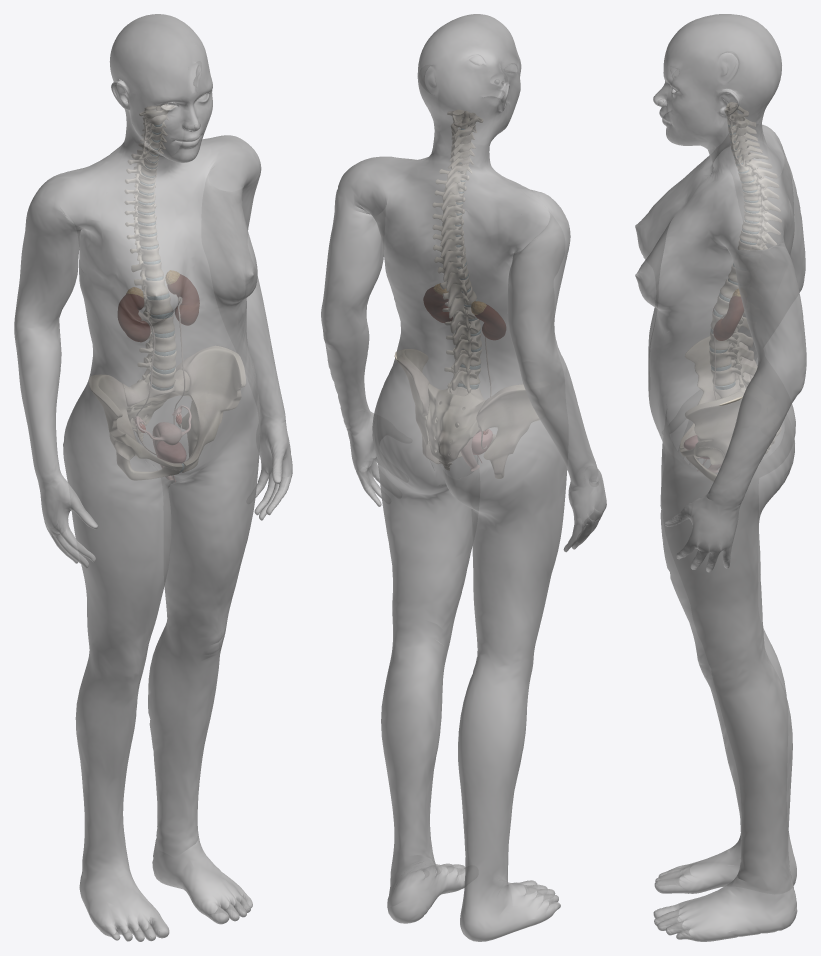
File: female-reproductive-urinary.glb
The picture shows the model from 3 angles, left to right: view 1: azimuth 30°, elevation 25°; view 2: azimuth 150°, elevation 25°; view 3: azimuth 270°, elevation 25°; orthographic projection.
Visible parts, largest first — view 1: Object_2, Object_18, Object_4, Object_34, Object_20, Object_23; view 2: Object_2, Object_4, Object_18, Object_20, Object_34; view 3: Object_2, Object_4, Object_18, Object_34, Object_23, Object_20.
Boxes of the visible parts, x1,y1,x2,y2 form: Object_2: (14, 14, 292, 941); Object_18: (89, 346, 245, 480); Object_4: (124, 104, 176, 387); Object_34: (118, 274, 199, 341); Object_20: (123, 370, 189, 428); Object_23: (138, 124, 183, 472); Object_2: (321, 14, 606, 941); Object_4: (432, 110, 482, 391); Object_18: (394, 349, 539, 478); Object_20: (426, 383, 485, 463); Object_34: (423, 287, 505, 339); Object_2: (635, 14, 806, 941); Object_4: (709, 102, 781, 385); Object_18: (680, 336, 757, 481); Object_34: (713, 296, 743, 340); Object_23: (710, 125, 758, 389); Object_20: (715, 372, 781, 445).
Bounding box in the file's own units: 20.12 × 69.82 × 12.16.
Materials: 14 (14 with a texture image).
